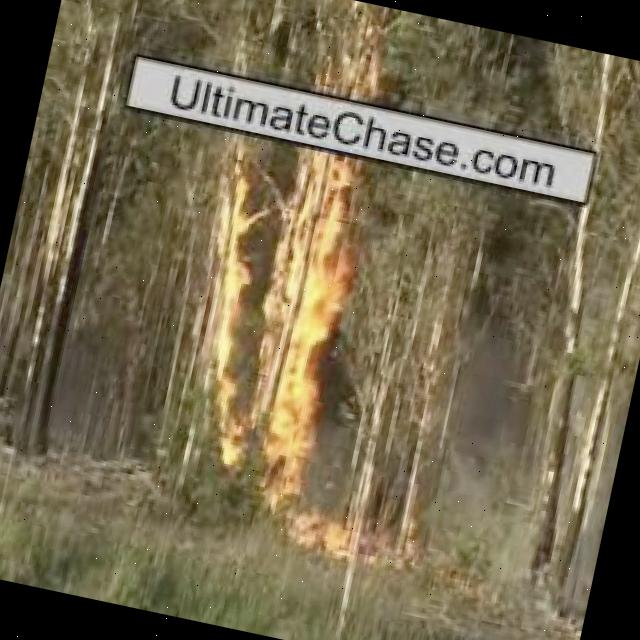fire: (156, 130, 388, 498), (262, 503, 394, 588), (302, 6, 402, 108)
